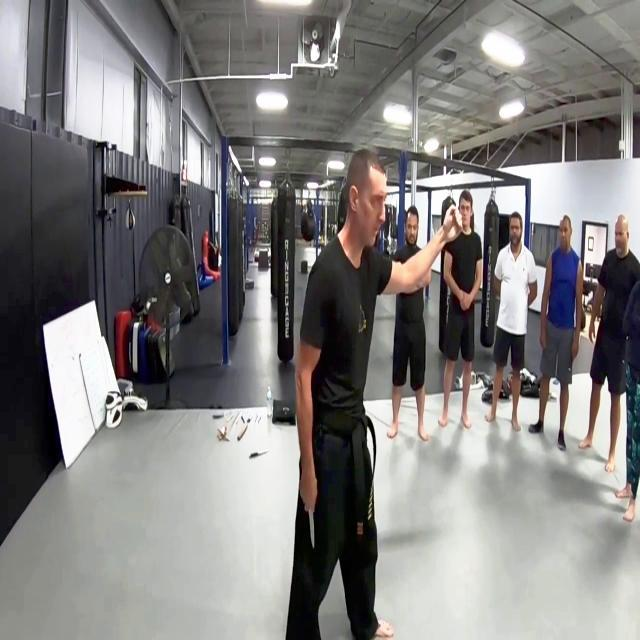Knife: (296, 478, 335, 562)
